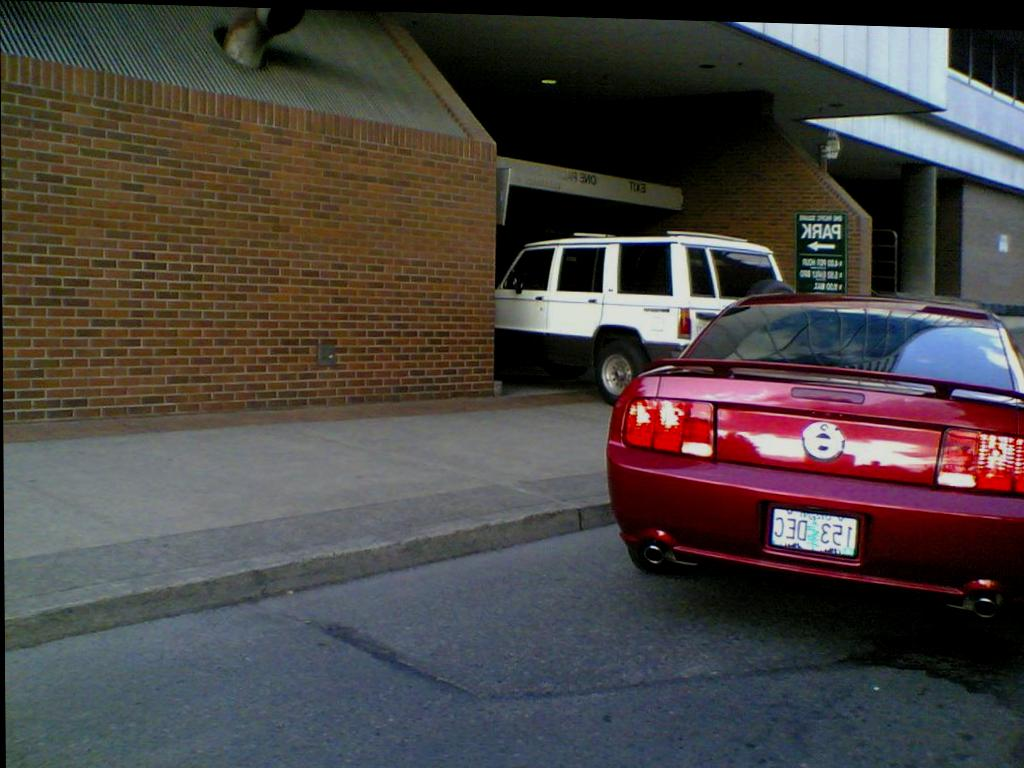License_Plate: (768, 510, 858, 561)
